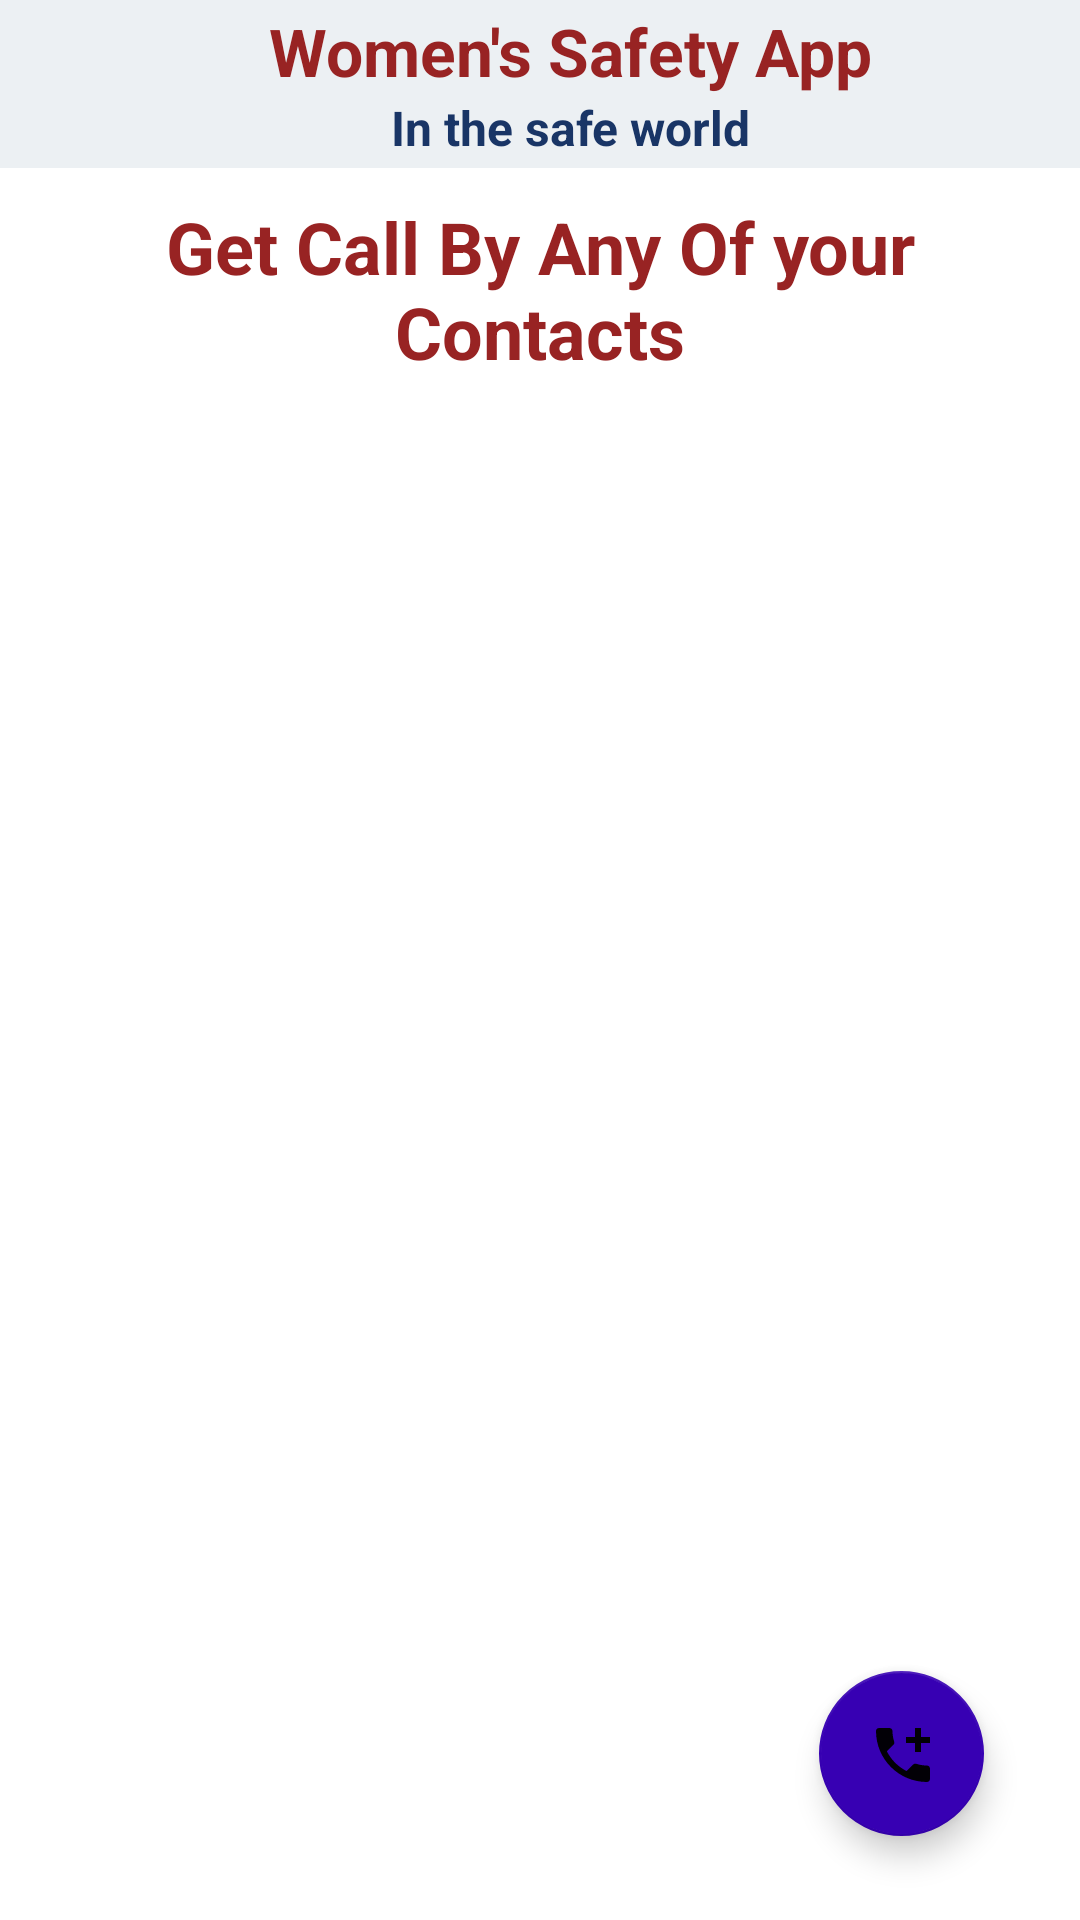

Named icons in this screenshot (1080×1920) and their centers, (x,y):
add call: (901,1753)
